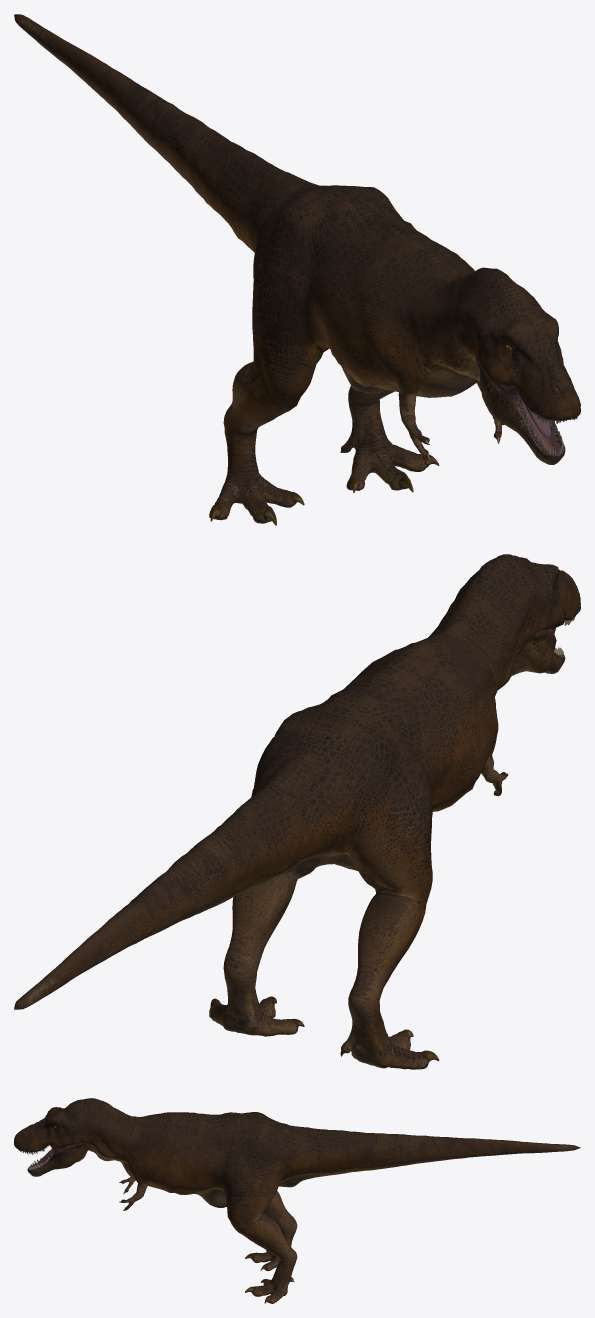
Rendered from dinosaurio.glb.
3 views of the same model, one above another, from view 1: azimuth 30°, elevation 25°; view 2: azimuth 150°, elevation 25°; view 3: azimuth 270°, elevation 25° (orthographic). The views are drawn at different scales.
Parts seen in each view (by area): view 1: Tyrant_King_2_Body_0; view 2: Tyrant_King_2_Body_0; view 3: Tyrant_King_2_Body_0.
Part boxes in pixels (x1,y1,x2,y2): Tyrant_King_2_Body_0: [14, 14, 580, 525]; Tyrant_King_2_Body_0: [14, 554, 580, 1069]; Tyrant_King_2_Body_0: [14, 1098, 580, 1303].
Bounding box in the file's own units: 0.783 × 1.16 × 3.31.
2 materials, 2 textured.
